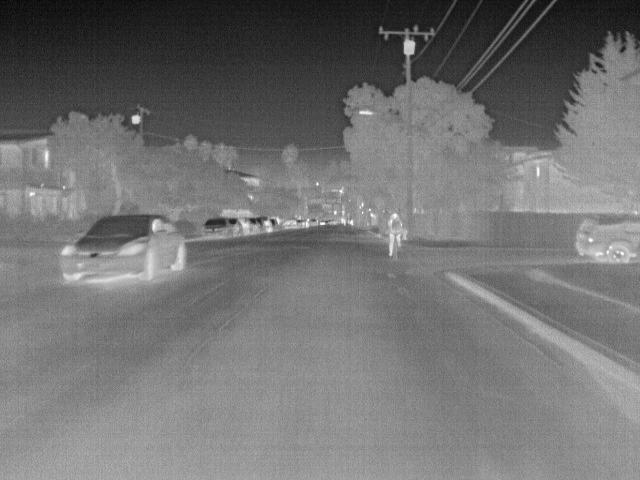car: (56, 213, 187, 284), (573, 214, 638, 265), (200, 218, 232, 239), (224, 218, 243, 236), (256, 216, 273, 232), (237, 218, 252, 236), (281, 218, 300, 230), (306, 215, 319, 226)
person: (384, 210, 404, 258)
